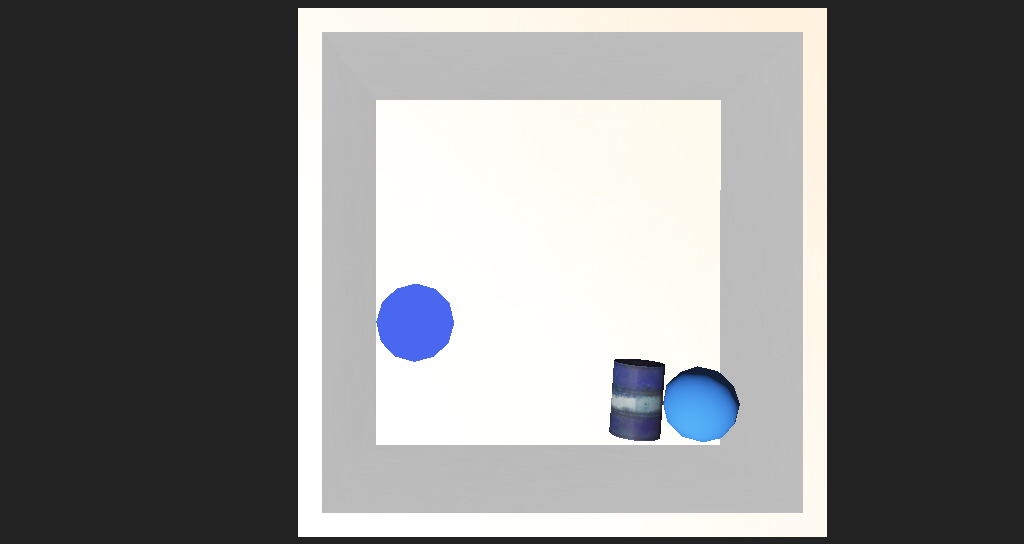cone: (552, 322, 606, 375)
cylinder: (357, 277, 424, 324)
sphere: (600, 324, 667, 372)
